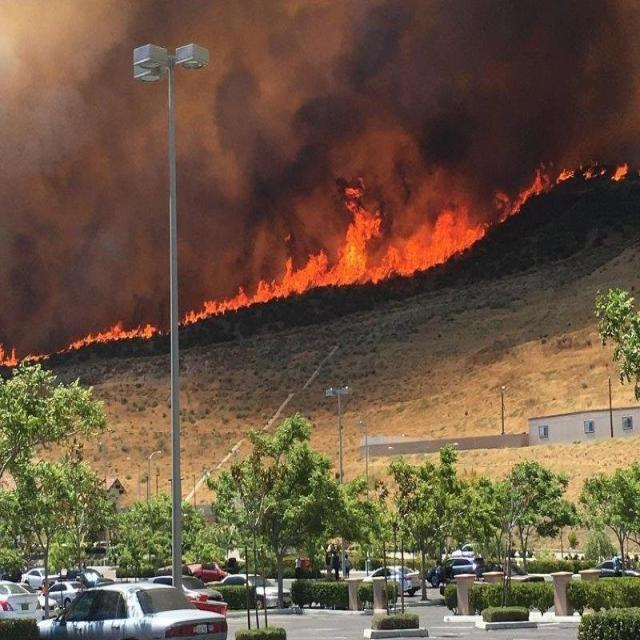Fire: (178, 154, 628, 326), (1, 318, 157, 367)
Smoke: (1, 1, 640, 356)
